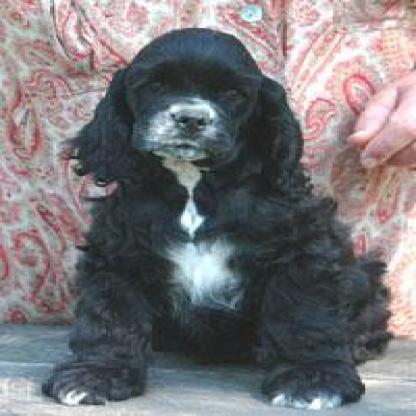cocker_spaniel: (33, 23, 391, 407)
